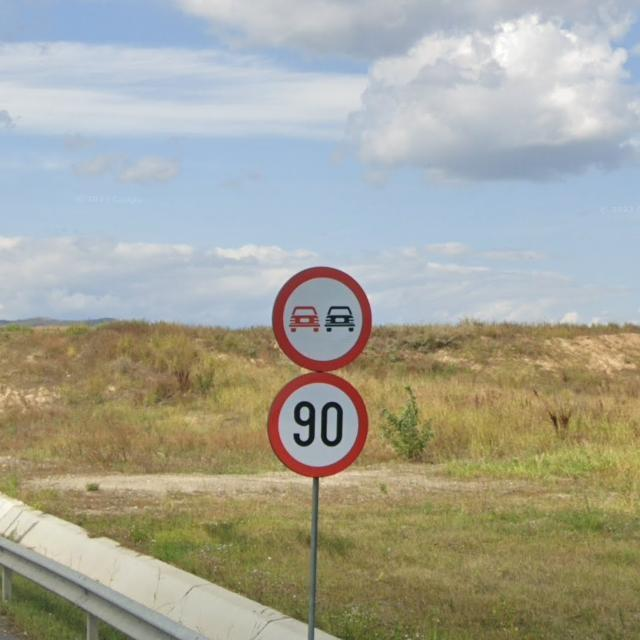forb_overtake: (273, 264, 373, 371)
